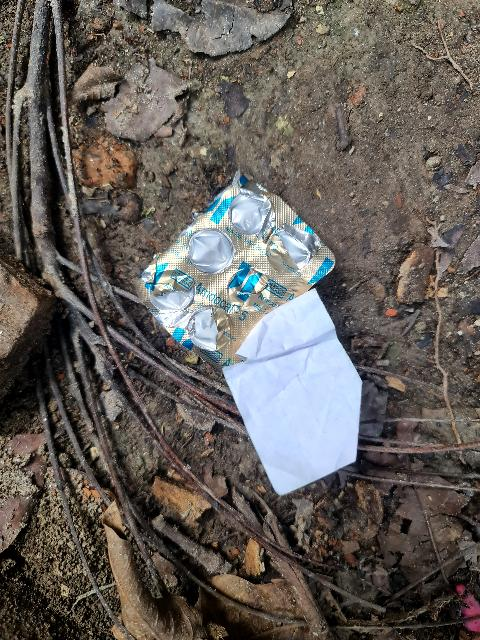medicine: (126, 159, 363, 379)
